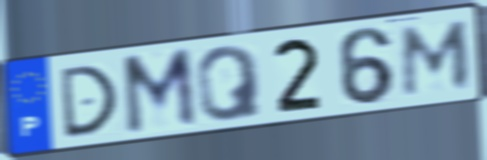2: (272, 36, 323, 114)
6: (336, 24, 399, 108)
D: (57, 62, 121, 142)
M: (118, 45, 201, 139), (400, 18, 473, 100)
Q: (193, 43, 265, 124)
